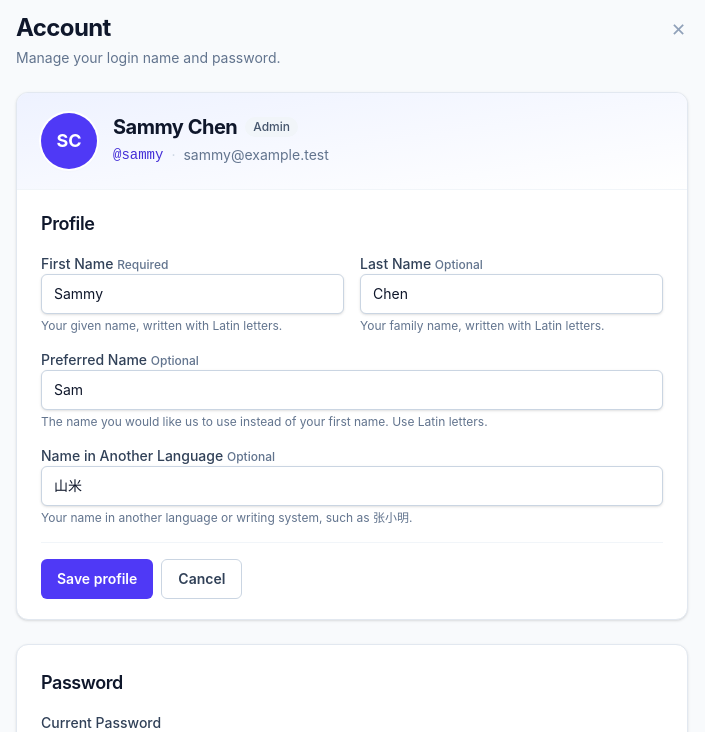
it: cancels profile edits without saving and restores the four current account fields
Replace the text in the field labelled "First Name Required" with "Draft name": (192, 294) left=41, top=274, right=344, bottom=314
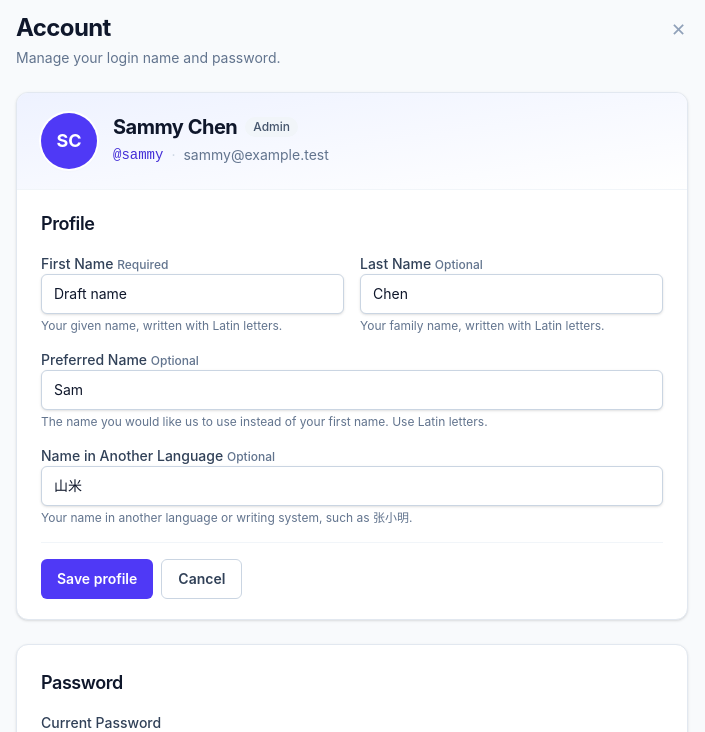
Replace the text in the field labelled "Last Name Optional" with "Draft surname": (512, 294) left=360, top=274, right=663, bottom=314
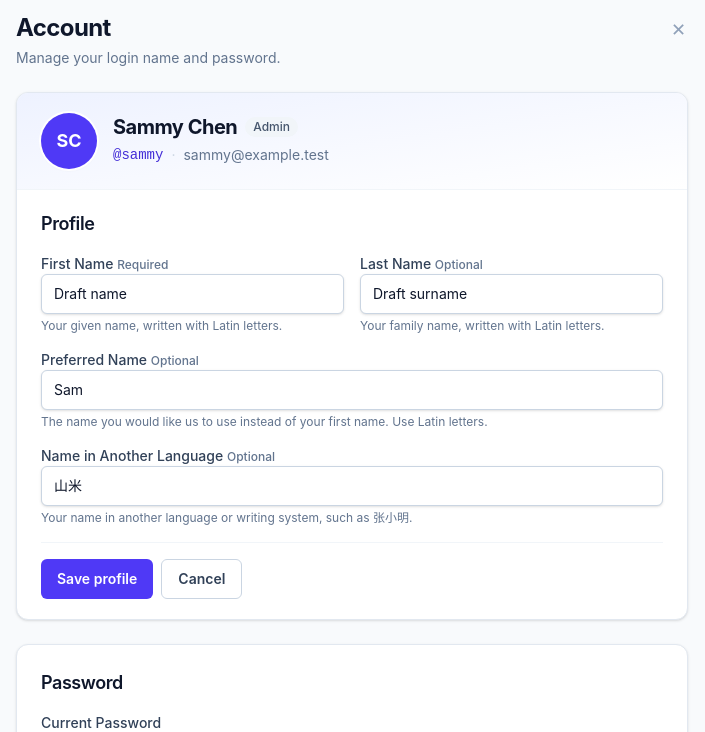
Replace the text in the field labelled "Preferred Name Optional" with "Draft nickname": (352, 390) left=41, top=370, right=663, bottom=410
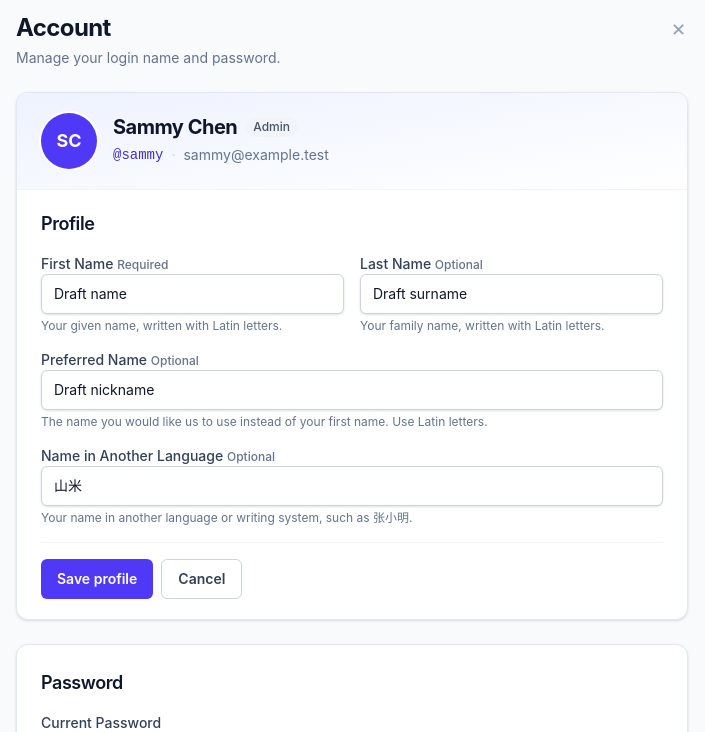
Replace the text in the field labelled "Name in Another Language Optional" with "Draft alternate": (352, 486) left=41, top=466, right=663, bottom=506
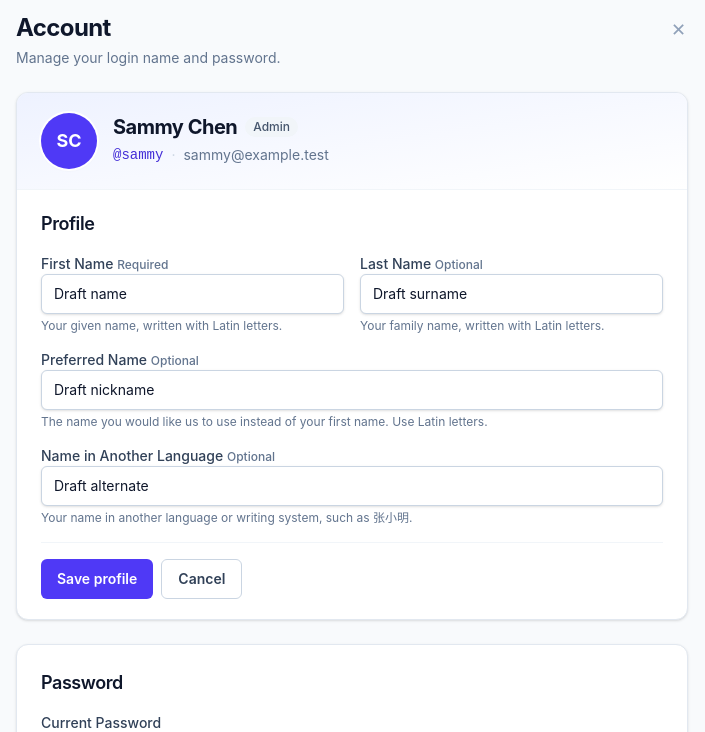
Click the button "Cancel": (202, 579) left=161, top=559, right=242, bottom=599
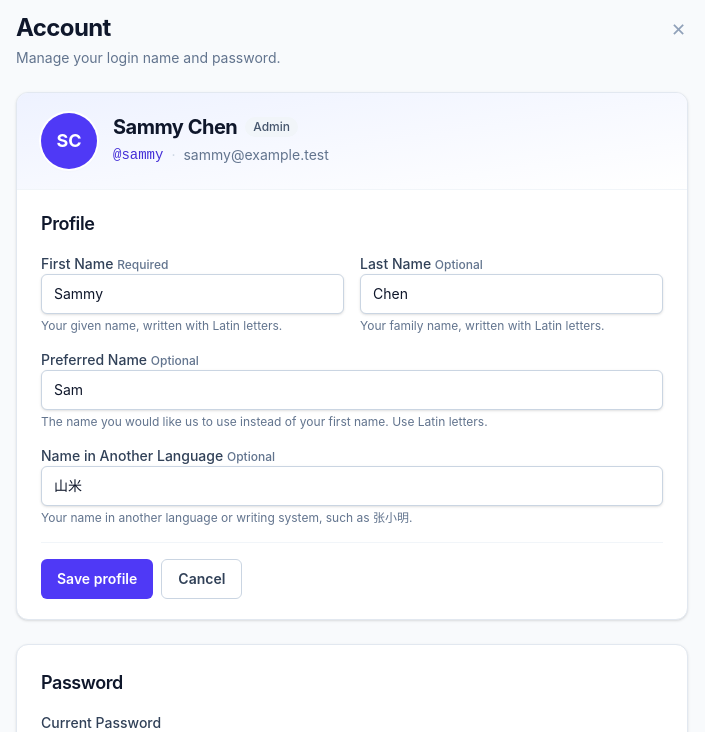
Check: the field labelled "Name in Another Language Optional" holds "山米", box left=41, top=466, right=663, bottom=506
